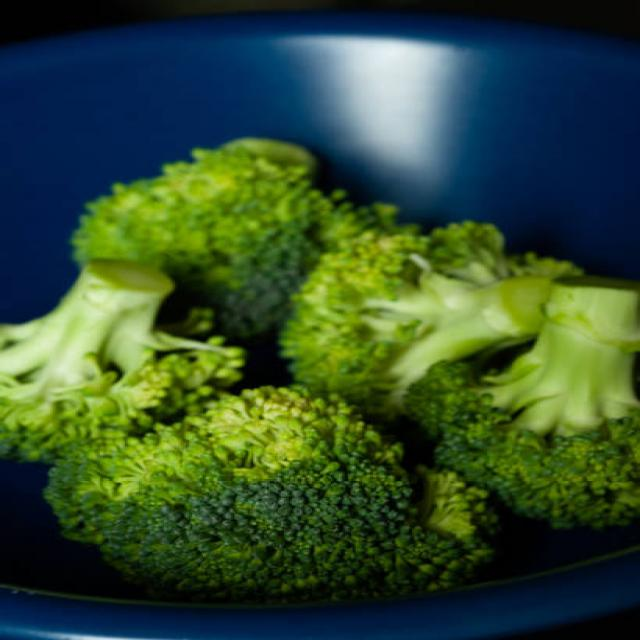Broccoli head: (451, 332, 640, 544), (284, 240, 514, 359), (0, 280, 198, 410), (114, 156, 344, 264)
